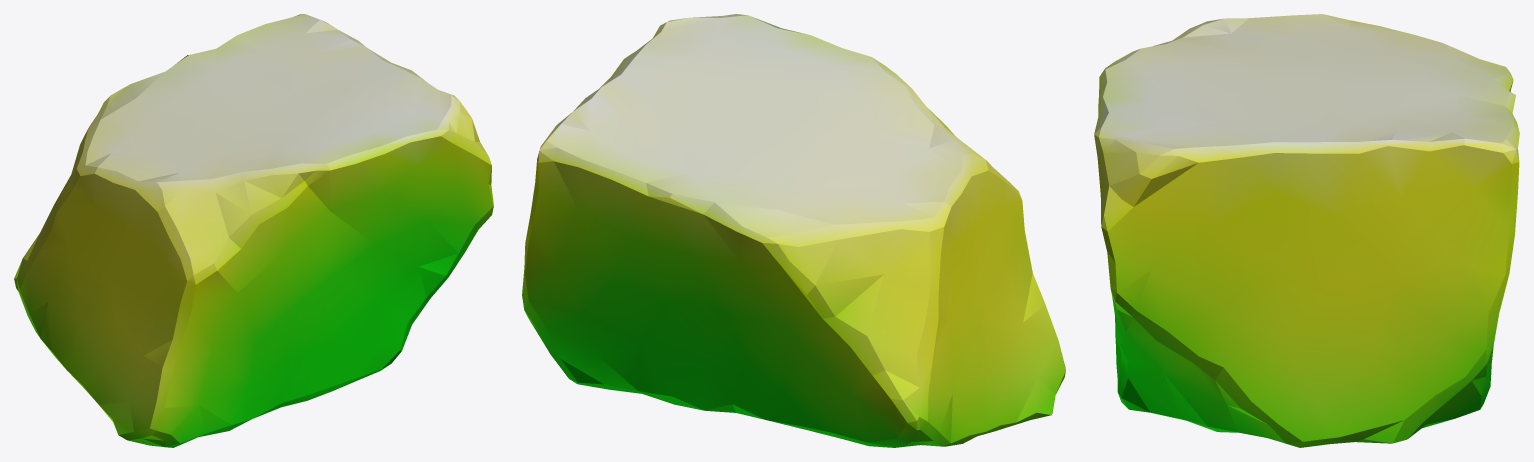
The model's file is rock_solo_01_LOD0.fbx.
3 views of the same model, side by side, from view 1: azimuth 30°, elevation 25°; view 2: azimuth 150°, elevation 25°; view 3: azimuth 270°, elevation 25° (orthographic). The views are drawn at different scales.
Visible parts, largest first — view 1: LOD0; view 2: LOD0; view 3: LOD0.
Boxes of the visible parts, left/top/right/bottom form: LOD0: left=14, top=14, right=493, bottom=447; LOD0: left=522, top=14, right=1065, bottom=447; LOD0: left=1094, top=14, right=1519, bottom=447.
Size of the model in its own units: 37928 by 27253 by 30150.
